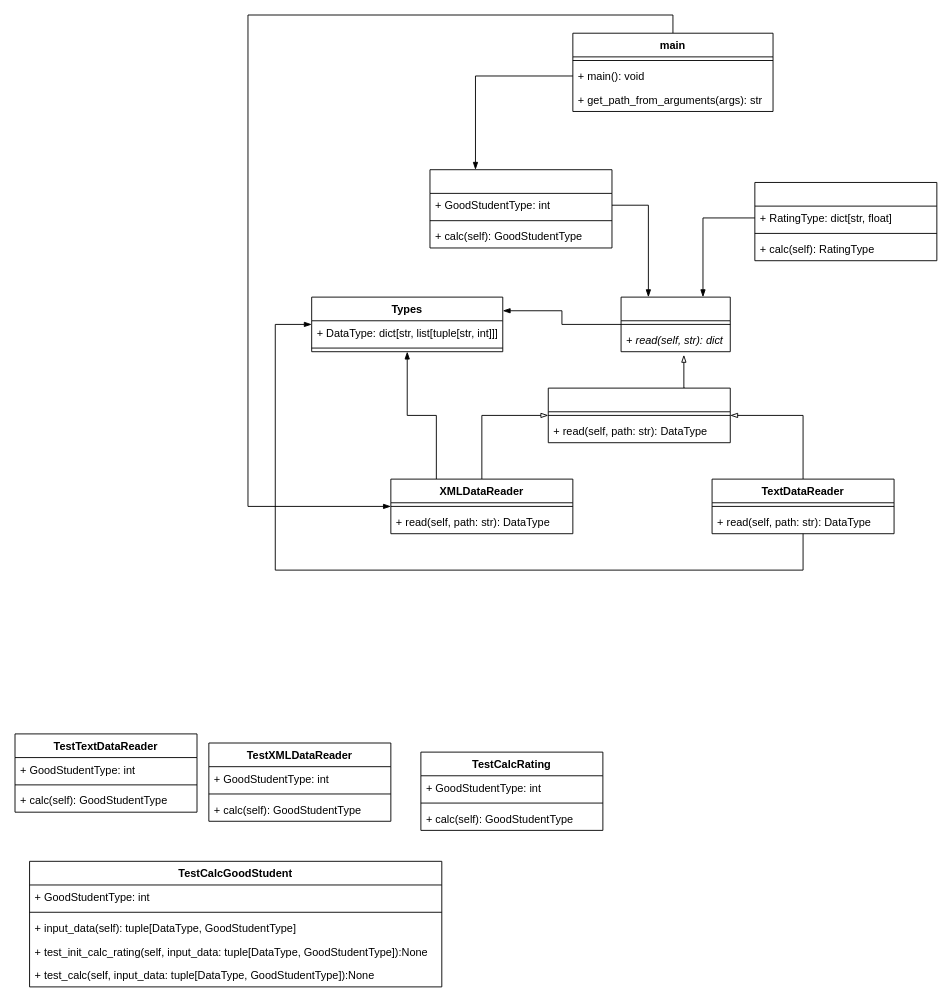
This 952x1002 diagram has some shape labels left out. The box of each missing label's shape, as (x1, y1, x2, y2) in pixels:
ABC: (620, 296, 730, 352)
CalcGoodStudent: (429, 169, 612, 248)
CalcRating: (754, 182, 937, 261)
DataReader: (547, 387, 730, 443)
